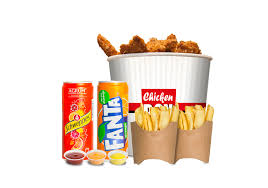not-coke: (54, 77, 135, 170)
